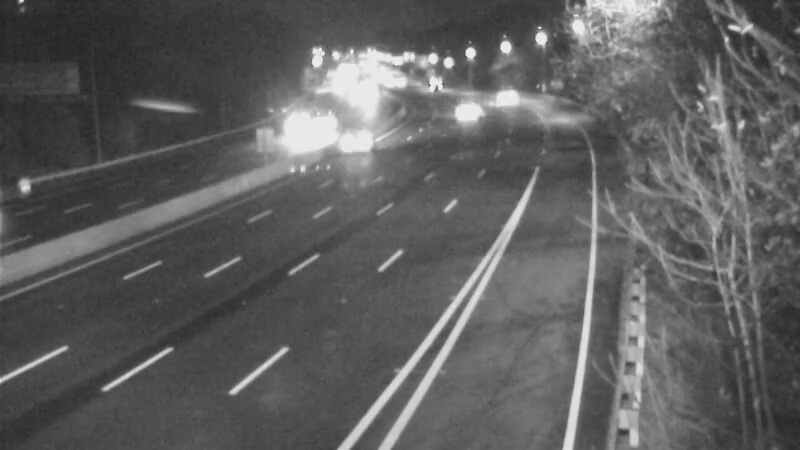vehicle: (1, 149, 67, 229), (407, 62, 457, 112), (483, 75, 533, 125), (435, 87, 485, 137), (334, 112, 384, 162), (296, 99, 346, 149), (271, 101, 321, 151)
